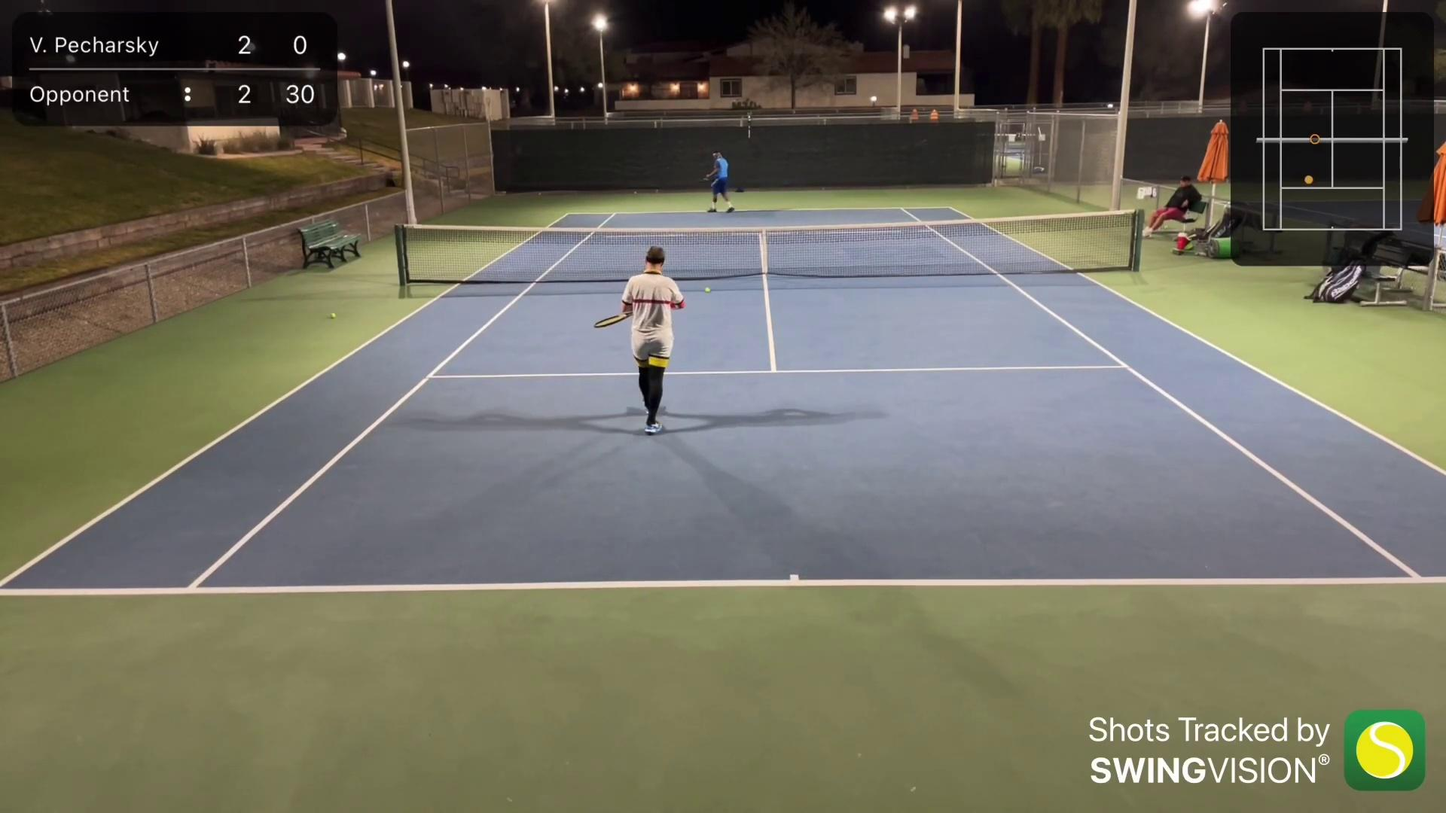ball: (702, 282, 718, 297), (326, 310, 344, 322)
